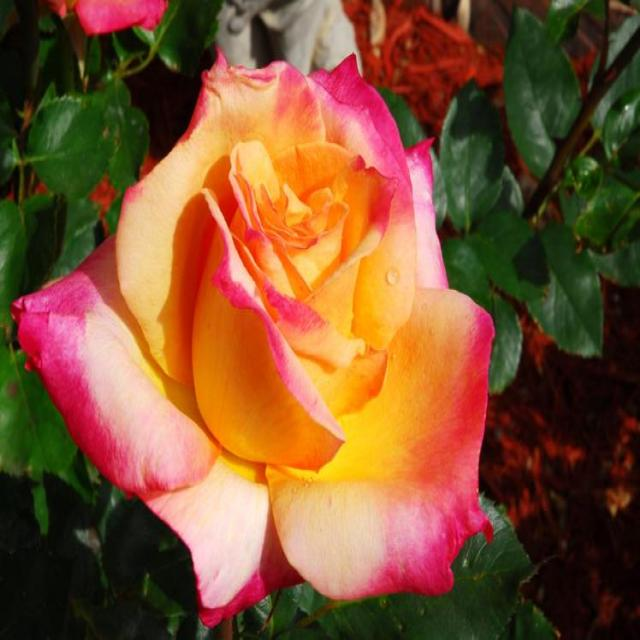rose: (25, 55, 588, 584)
